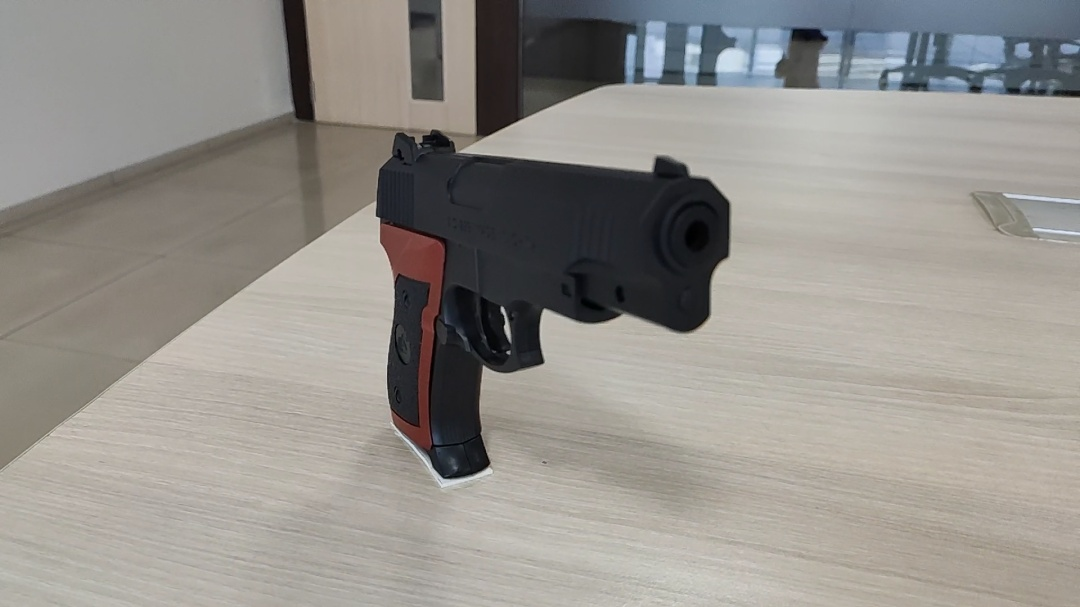gun: (571, 257, 622, 284)
